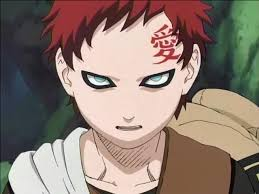gaara: (54, 5, 202, 147)
